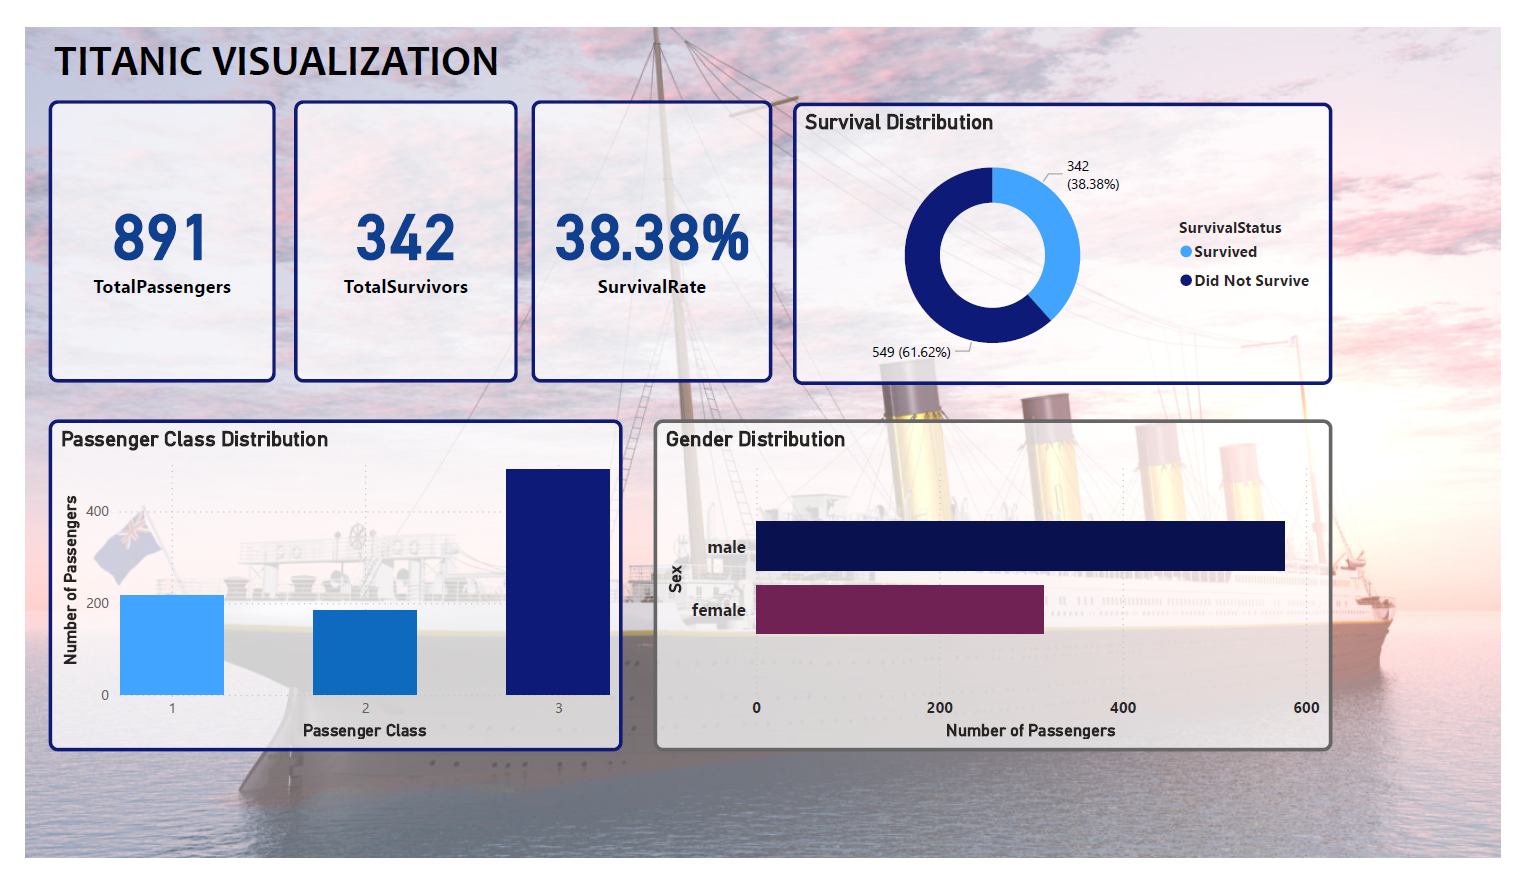

The page's visual inventory and layout, read from the dashboard file:
{"tool":"powerbi","page":{"name":"Overview","canvas":[1280,720],"ordinal":0},"visuals":[{"type":"donutChart","title":"Survival Distribution","fields":{"Y":["Titanic dataset.TotalSurvivors","Titanic dataset.TotalNonSurvivors"],"Category":["Titanic dataset.SurvivalStatus"]},"box":[666.3,64.8,467.8,245.1],"z":0},{"type":"clusteredColumnChart","title":"Passenger Class Distribution","fields":{"Category":["Titanic dataset.Pclass"],"Y":["Titanic dataset.TotalPassengers"]},"box":[20.3,340.3,498.2,287.6],"z":1000},{"type":"barChart","title":"Gender Distribution","fields":{"Category":["Titanic dataset.Sex"],"Y":["Titanic dataset.TotalPassengers"]},"box":[544.8,340.3,589.4,287.6],"z":2000},{"type":"card","fields":{"Values":["Titanic dataset.TotalPassengers"]},"box":[20.3,62.8,196.5,245.1],"z":3000},{"type":"card","fields":{"Values":["Titanic dataset.TotalSurvivors"]},"box":[232.9,62.8,194.4,245.1],"z":4000},{"type":"card","fields":{"Values":["Titanic dataset.SurvivalRate"]},"box":[439.5,62.8,208.6,245.1],"z":5000},{"type":"textbox","box":[20.3,0,419.2,62.8],"z":6000}]}

Visuals, with their boxes in screenshot pixels (x1, y1, x2, y2), scaled from the page's 1280x720 canvas onto the 1527x884 screenshot:
"Survival Distribution" donutChart: x1=795, y1=80, x2=1353, y2=380
"Passenger Class Distribution" clusteredColumnChart: x1=24, y1=418, x2=619, y2=771
"Gender Distribution" barChart: x1=650, y1=418, x2=1353, y2=771
card - Titanic dataset.TotalPassengers: x1=24, y1=77, x2=259, y2=378
card - Titanic dataset.TotalSurvivors: x1=278, y1=77, x2=510, y2=378
card - Titanic dataset.SurvivalRate: x1=524, y1=77, x2=773, y2=378
textbox: x1=24, y1=0, x2=524, y2=77
